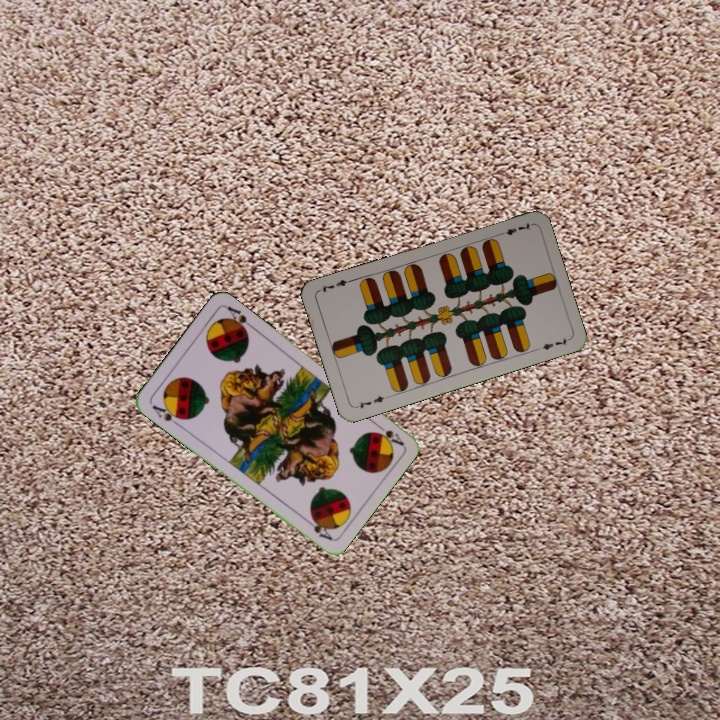E7: (352, 391, 391, 411), (495, 219, 534, 239)
SA: (371, 418, 406, 448), (148, 401, 186, 424)
